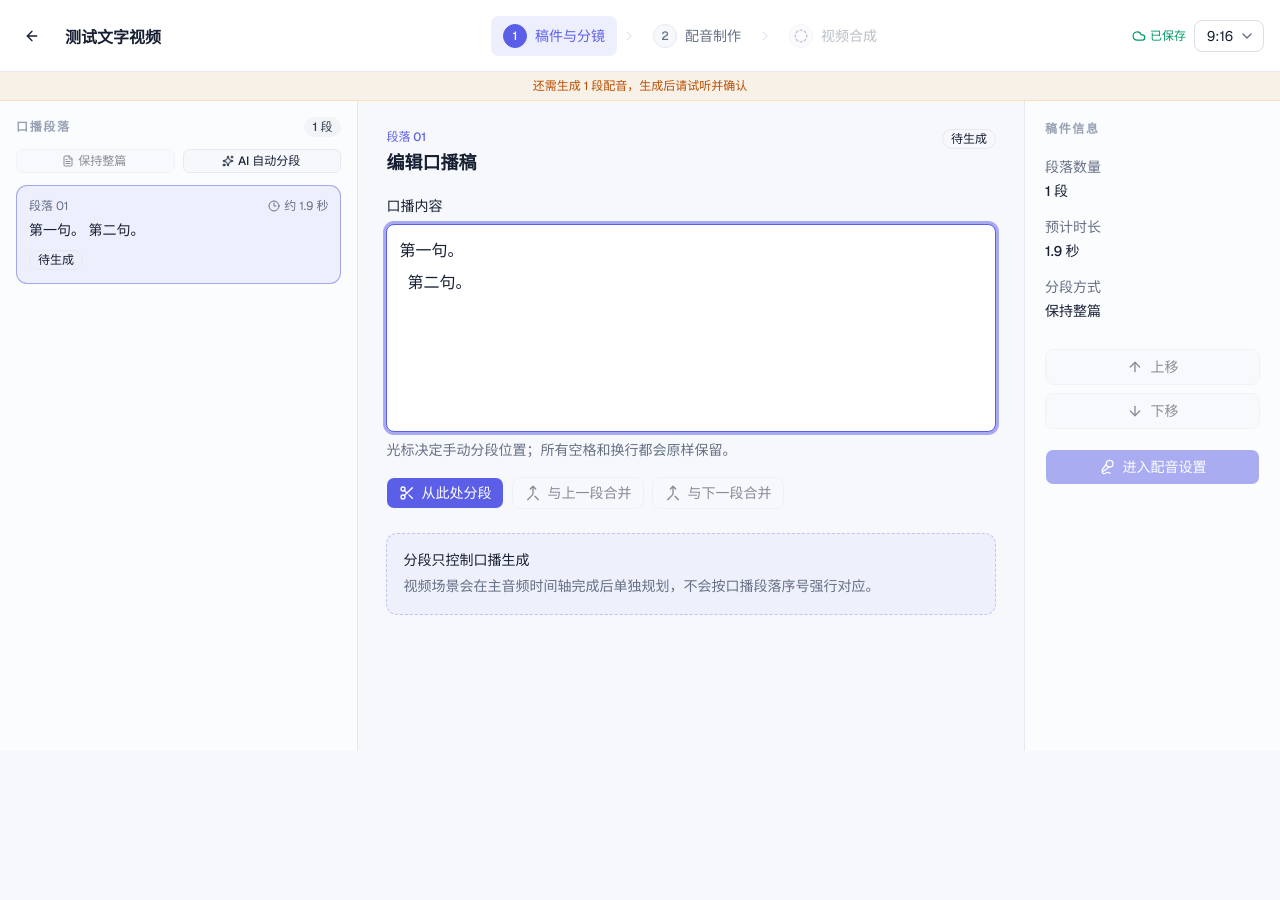
Test: TextVideoWorkbench › keeps exact narration text and stable selection through split and merge
Click the button "从此处分段": (445, 493) [386,477,504,509]
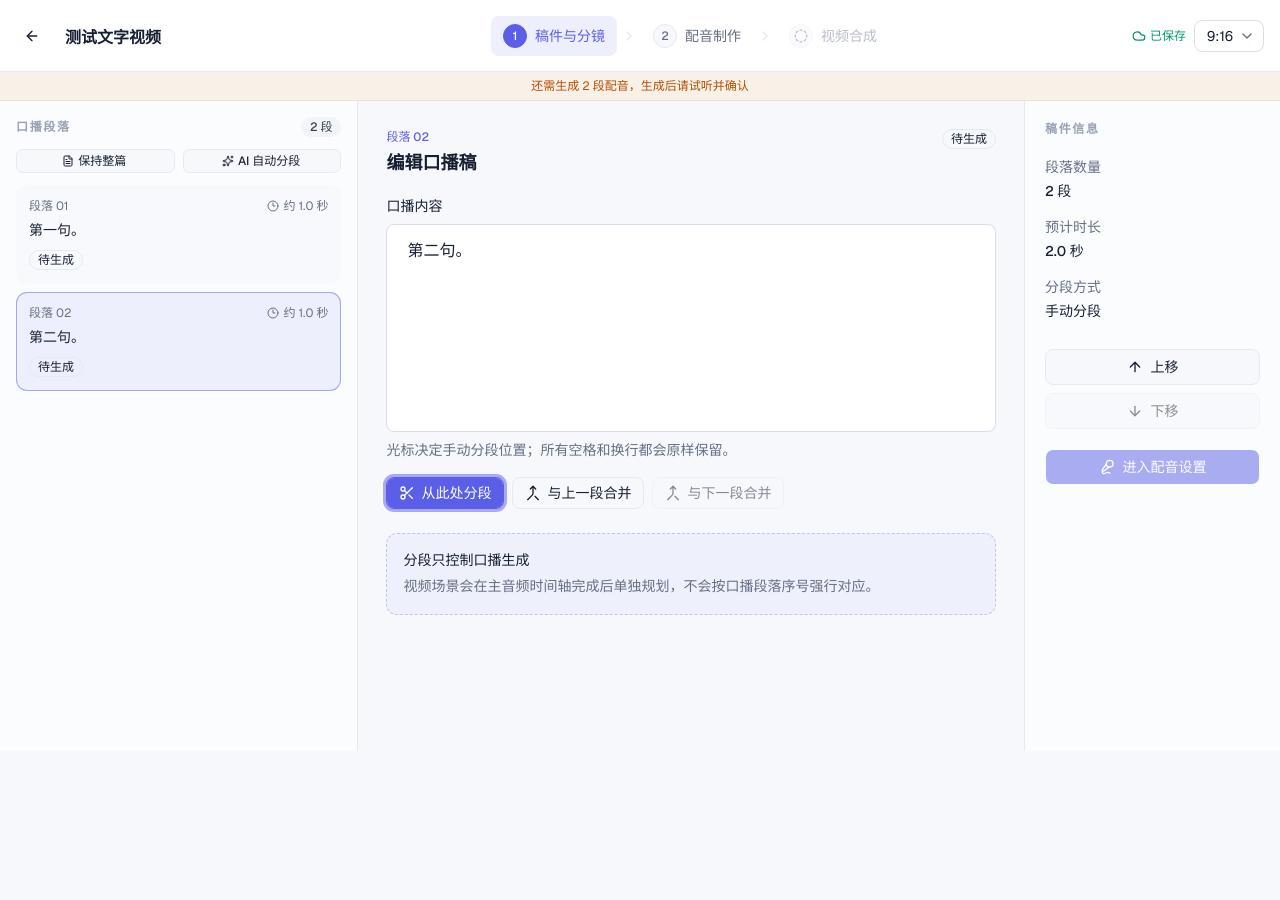
Expected: the text box labelled "口播内容" holds "  第二句。", [386,224,996,432]
Expected: the number of icons "2 段" is 2, [301,117,341,137]; [1045,182,1071,200]
Click the button "与上一段合并": (578, 493) [512,477,644,509]
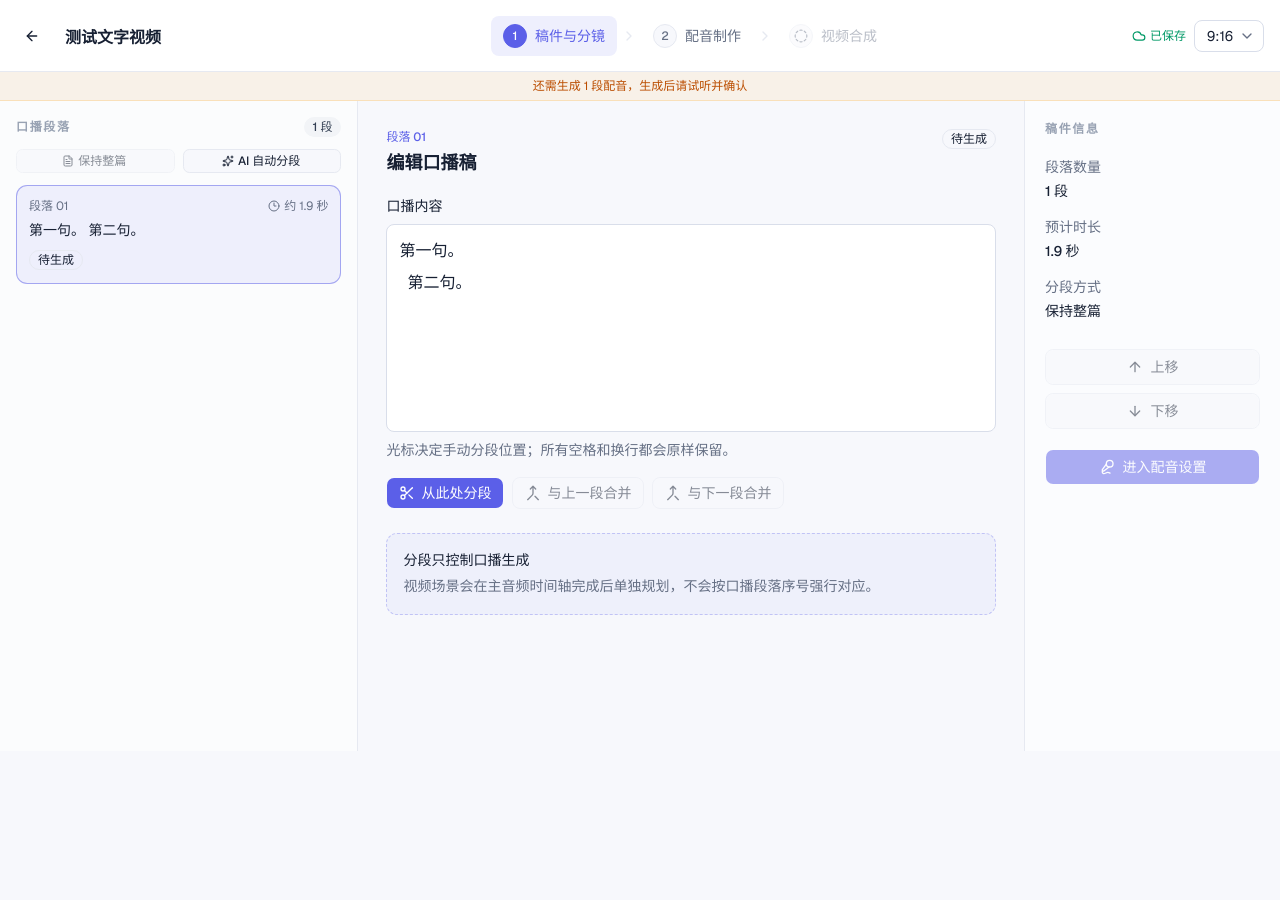
Expected: the number of icons "1 段" is 2, [304,117,341,137]; [1045,182,1068,200]
